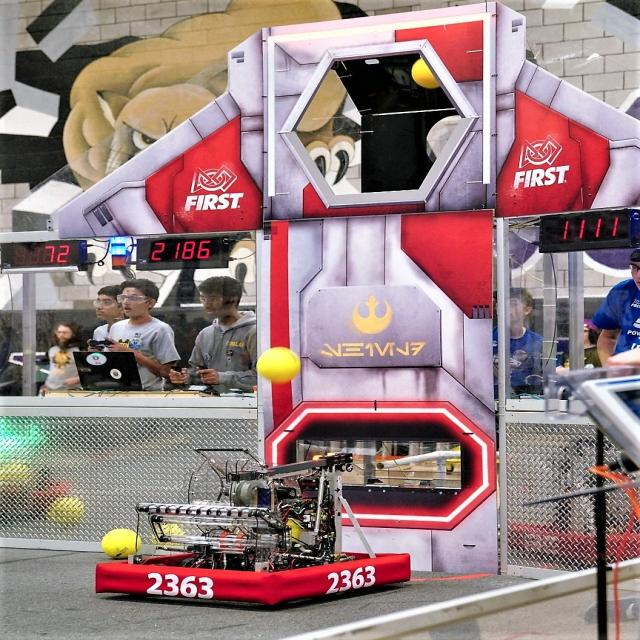robot: (96, 444, 414, 603)
